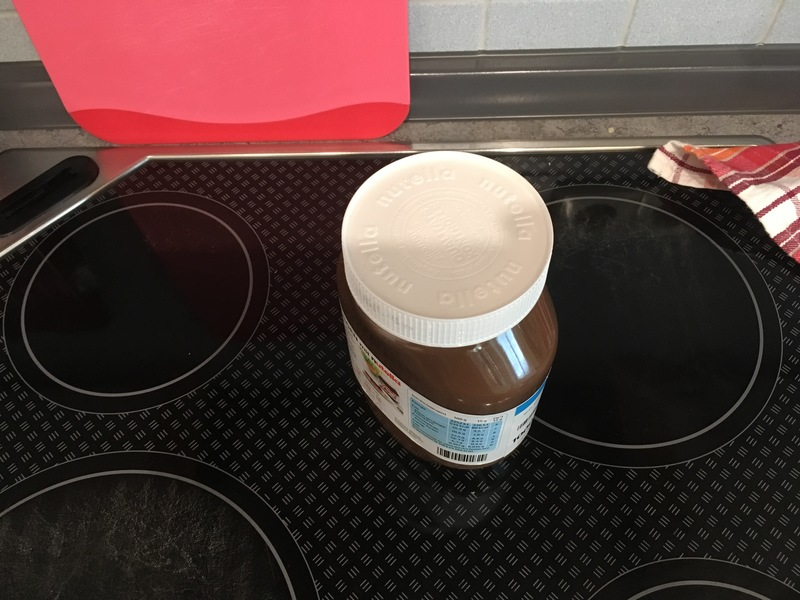nutella: (336, 151, 558, 476)
